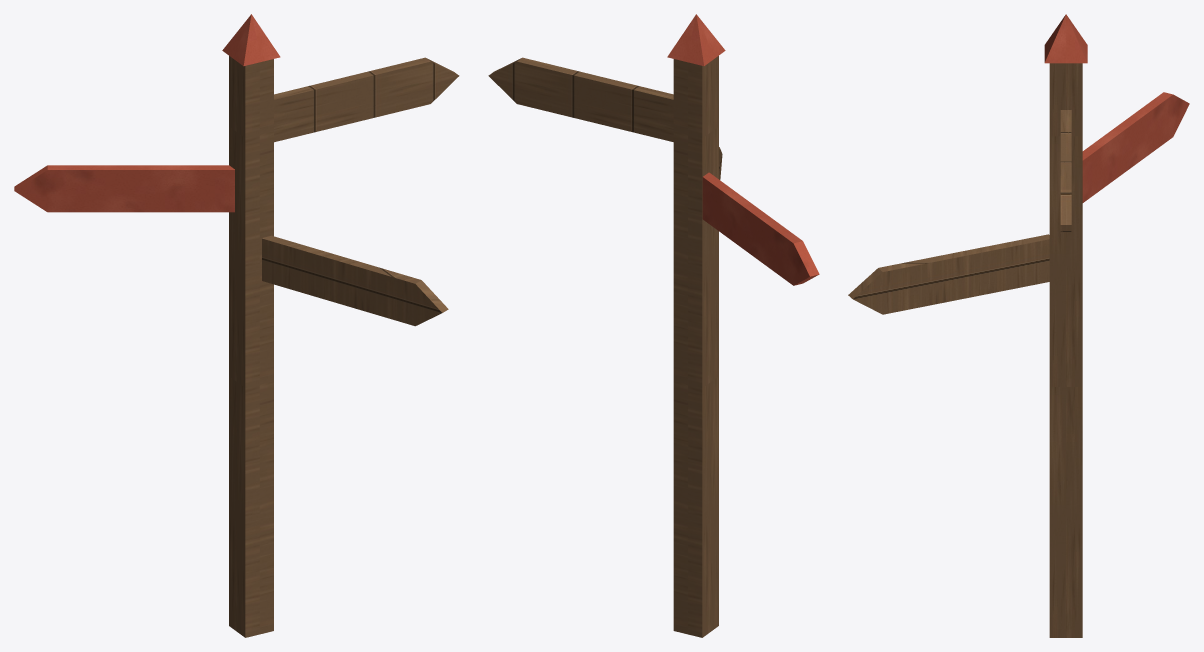
File: signpost.glb
The picture shows the model from 3 angles, left to right: view 1: azimuth 30°, elevation 25°; view 2: azimuth 150°, elevation 25°; view 3: azimuth 270°, elevation 25°; orthographic projection.
Parts seen in each view (by area): view 1: Signpost_oak, Signpost_oakPlanks, Signpost_terracotta; view 2: Signpost_oak, Signpost_oakPlanks, Signpost_terracotta; view 3: Signpost_oak, Signpost_oakPlanks, Signpost_terracotta.
Boxes of the visible parts, bbox=[...] form: Signpost_oak: bbox=[229, 56, 273, 637]; Signpost_oakPlanks: bbox=[262, 57, 459, 326]; Signpost_terracotta: bbox=[14, 14, 280, 212]; Signpost_oak: bbox=[673, 56, 718, 637]; Signpost_oakPlanks: bbox=[488, 57, 722, 179]; Signpost_terracotta: bbox=[667, 14, 819, 285]; Signpost_oak: bbox=[1049, 63, 1082, 637]; Signpost_oakPlanks: bbox=[848, 110, 1071, 314]; Signpost_terracotta: bbox=[1044, 14, 1189, 202].
Size of the model in its own units: 1.61 by 2.46 by 1.24.
Materials: 3 (3 with a texture image).
